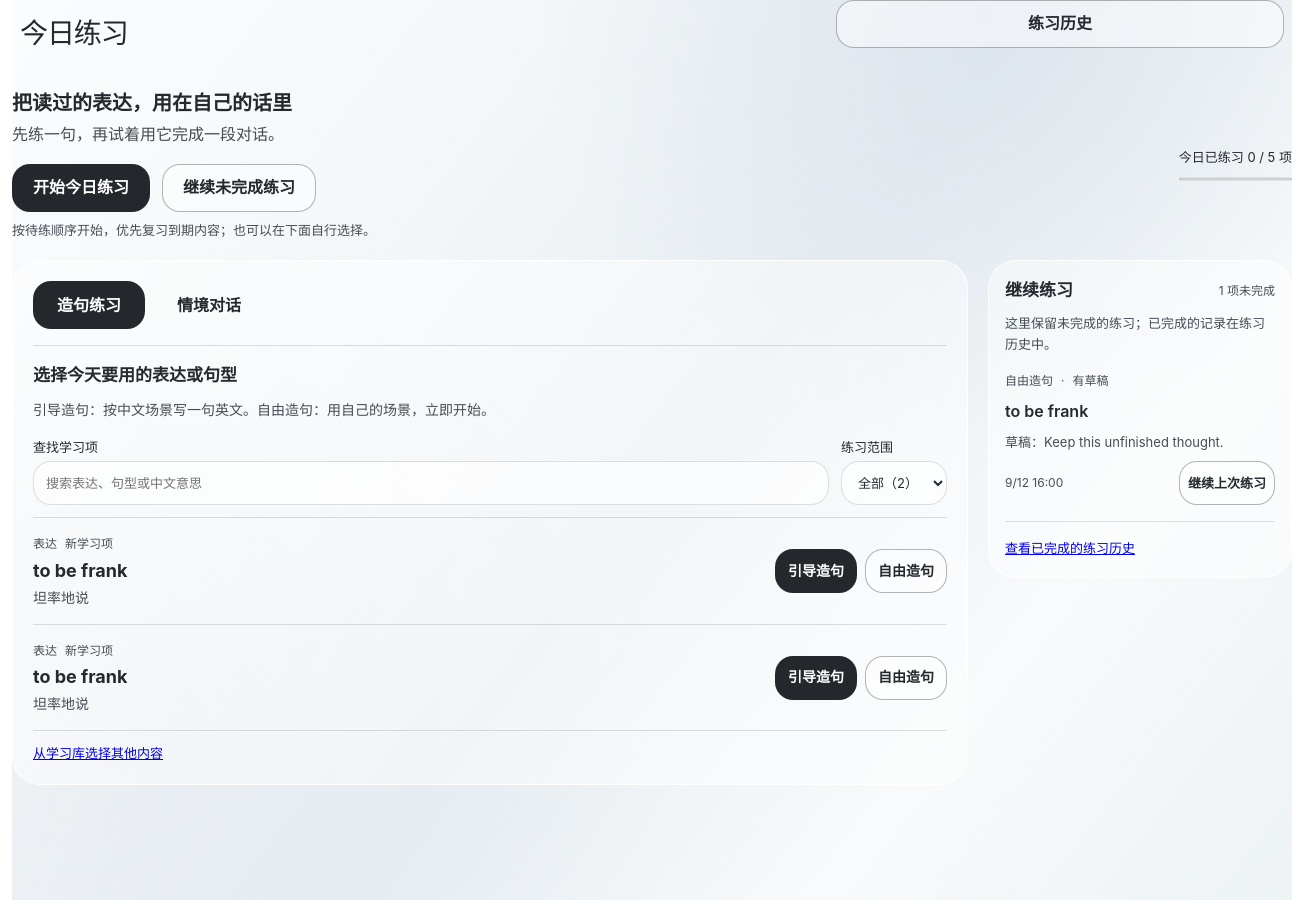
Test case: promotes the latest saved practice on entry without generating or losing its draft
The width and height of the screenshot is (1304, 900).
Click the button "继续未完成练习". click: (239, 188)
box: [162,164,316,212]
(page scrolled)
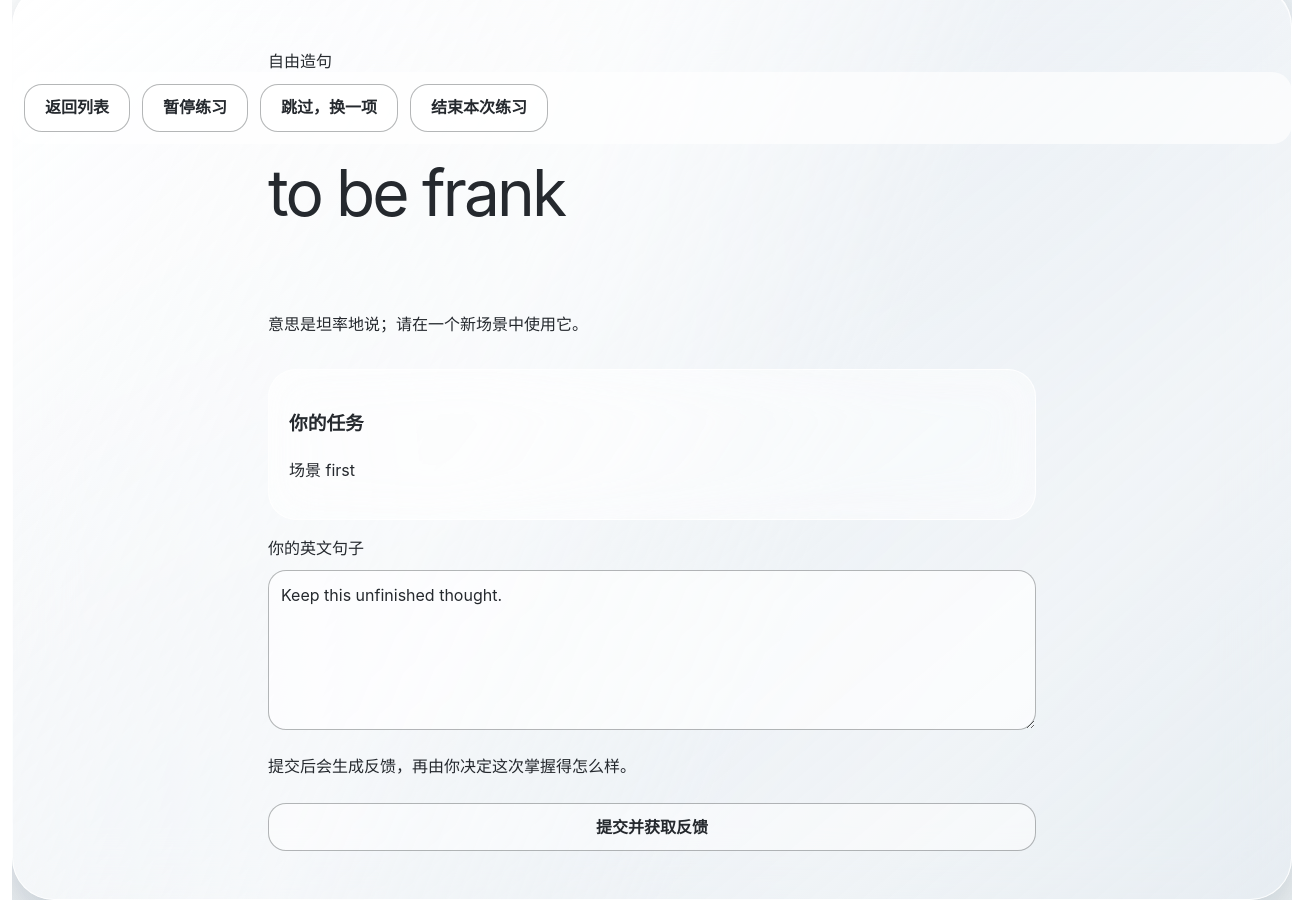
Now the text box named "answer" holds "Keep this unfinished thought.", box [268,570,1036,730]
